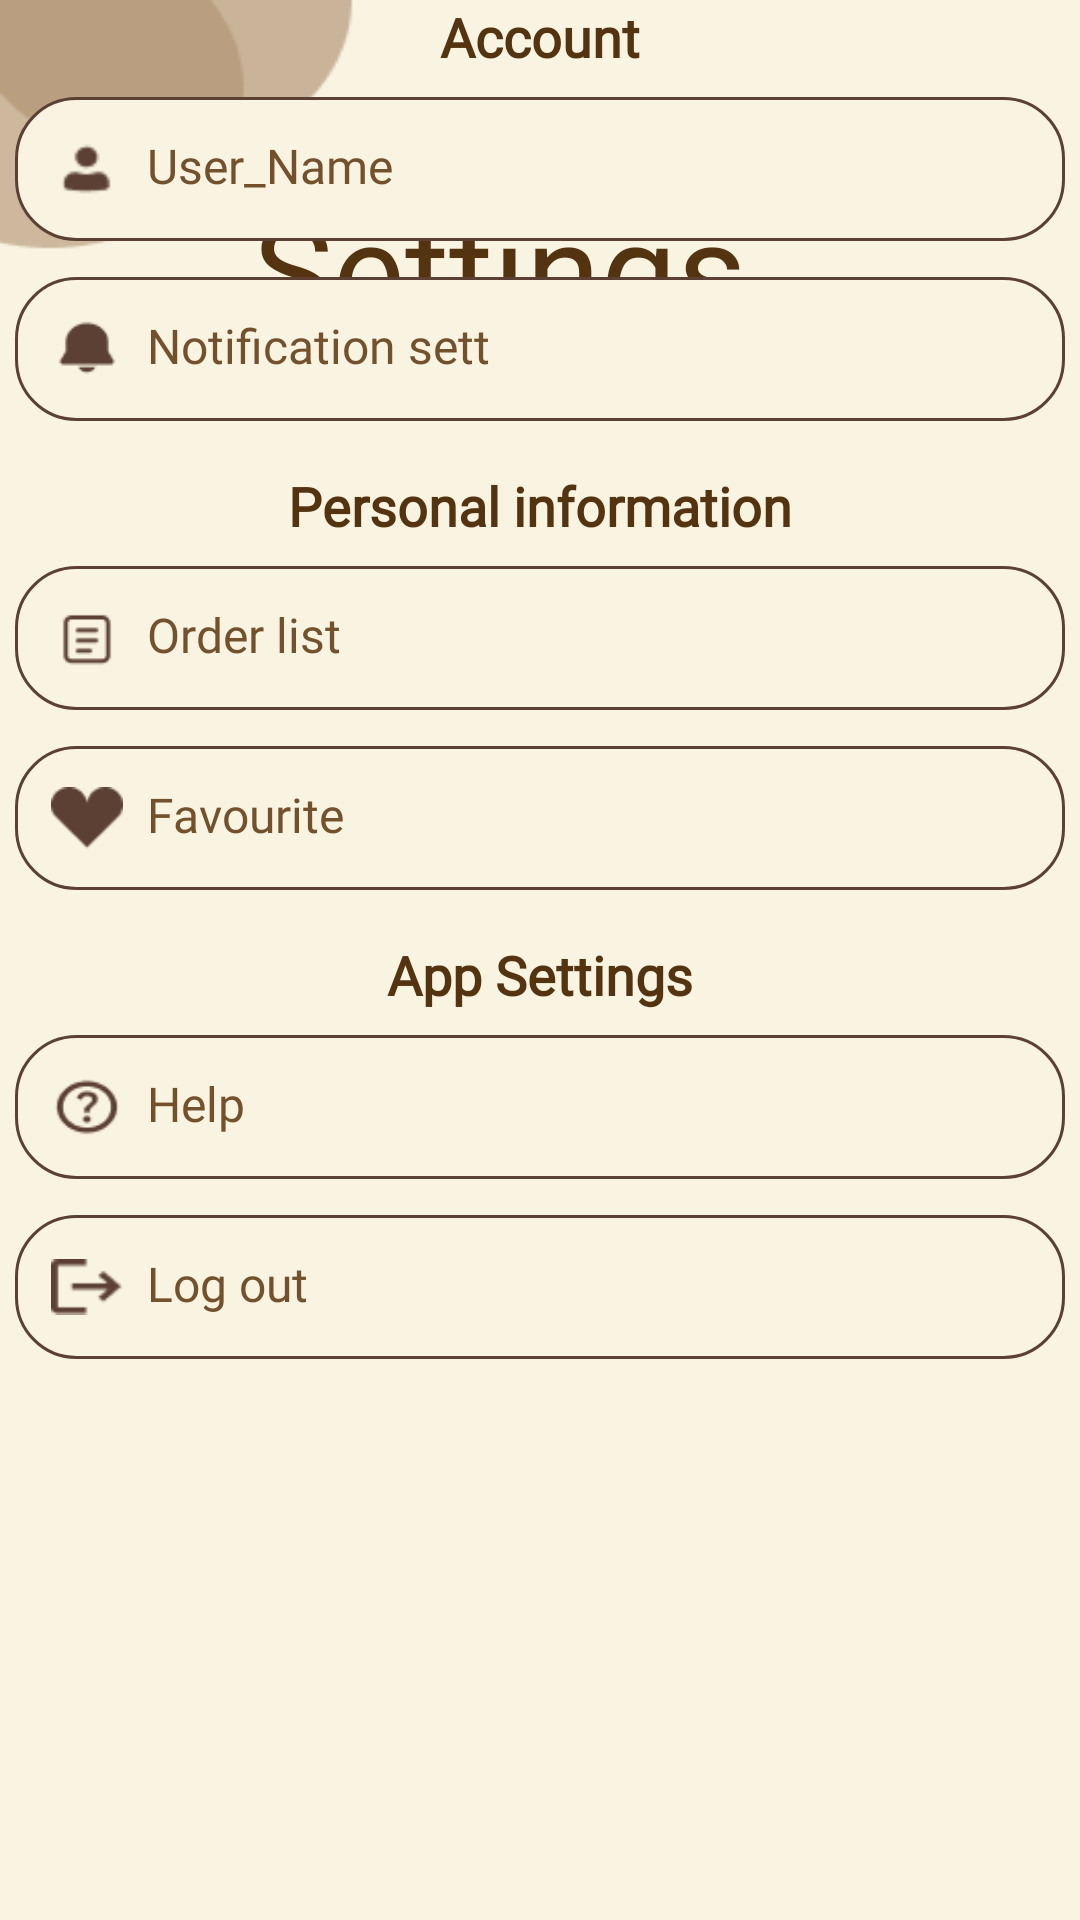

Point at icon controls on the screen. Image size 1080x1920, points as (x,y).
acco: (87,169)
heart: (87,817)
